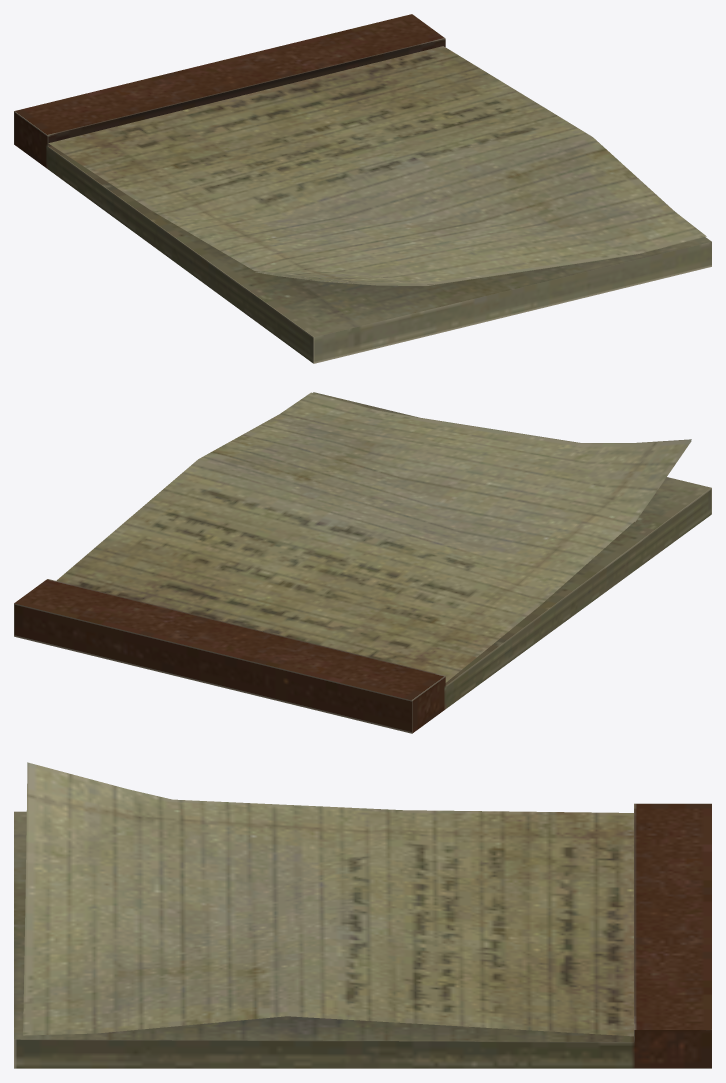
Rendered from 013_NotePad.fbx.
3 views of the same model, one above another, from view 1: azimuth 30°, elevation 25°; view 2: azimuth 150°, elevation 25°; view 3: azimuth 270°, elevation 25° (orthographic). The views are drawn at different scales.
Parts seen in each view (by area): view 1: LOD_1_Group_0_Sub_1__sm36_013_Notepad01A_A_Mat; view 2: LOD_1_Group_0_Sub_1__sm36_013_Notepad01A_A_Mat; view 3: LOD_1_Group_0_Sub_1__sm36_013_Notepad01A_A_Mat.
Part boxes in pixels (bbox=[...]): LOD_1_Group_0_Sub_1__sm36_013_Notepad01A_A_Mat: bbox=[14, 14, 711, 363]; LOD_1_Group_0_Sub_1__sm36_013_Notepad01A_A_Mat: bbox=[14, 392, 711, 733]; LOD_1_Group_0_Sub_1__sm36_013_Notepad01A_A_Mat: bbox=[14, 762, 711, 1068].
Size of the model in its own units: 0.134 by 0.0244 by 0.1748.
